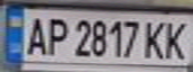1: (106, 17, 124, 57)
2: (69, 16, 93, 57)
7: (121, 17, 142, 59)
8: (90, 16, 109, 57)
A: (21, 12, 51, 56)
K: (160, 17, 193, 61), (139, 18, 169, 61)
P: (42, 14, 69, 56)
